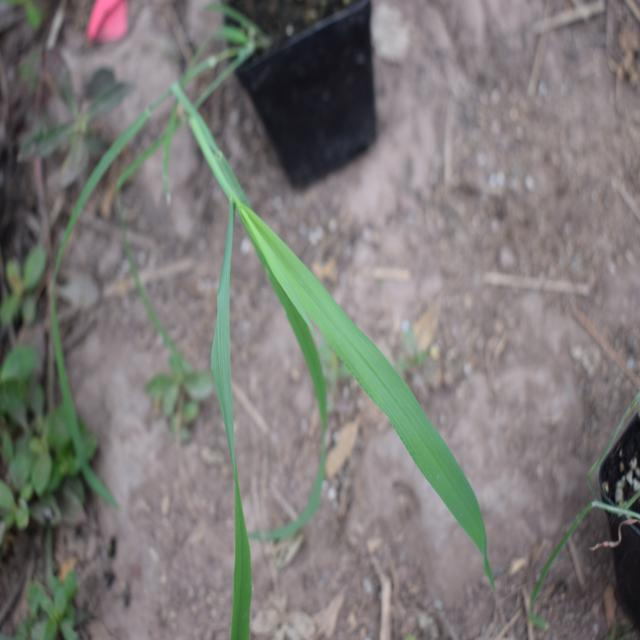crabgrass: (190, 170, 486, 612)
